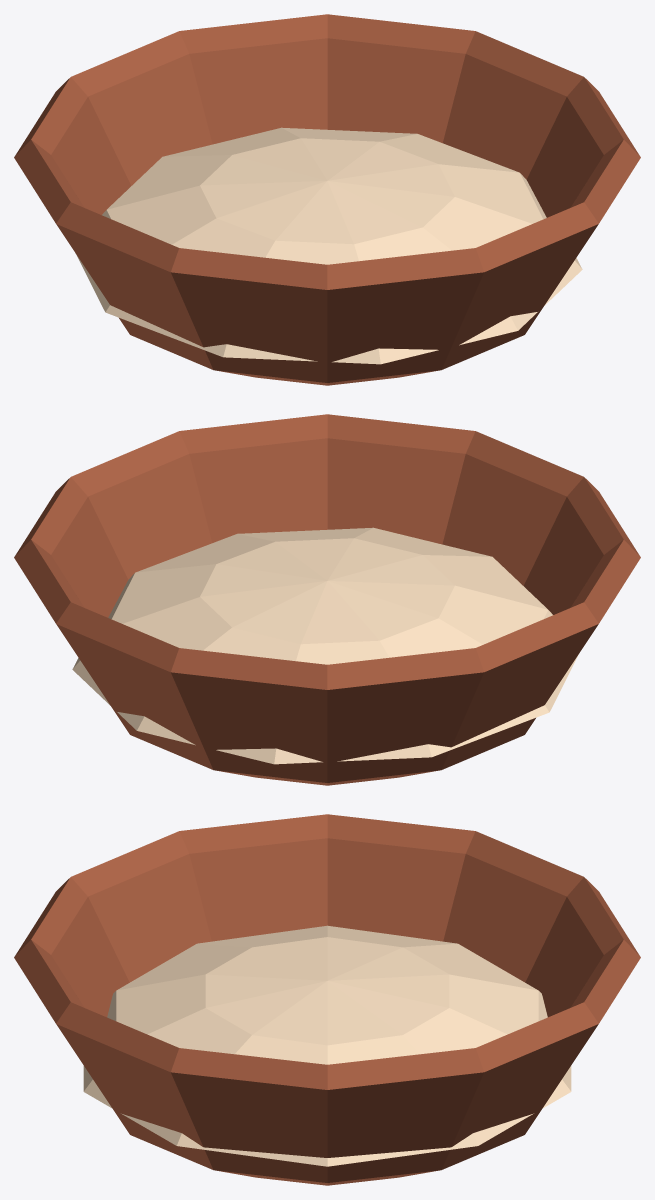
File: rice-raw.glb
3 renders of one model, top to bottom at view 1: azimuth 30°, elevation 25°; view 2: azimuth 150°, elevation 25°; view 3: azimuth 270°, elevation 25°, orthographic.
Parts seen in each view (by area): view 1: rice-raw; view 2: rice-raw; view 3: rice-raw.
Boxes of the visible parts, left/top/right/bottom form: rice-raw: left=14, top=14, right=640, bottom=385; rice-raw: left=14, top=414, right=640, bottom=785; rice-raw: left=14, top=814, right=640, bottom=1185.
Bounding box in the file's own units: 0.22 × 0.072 × 0.22.
1 material, 1 textured.
